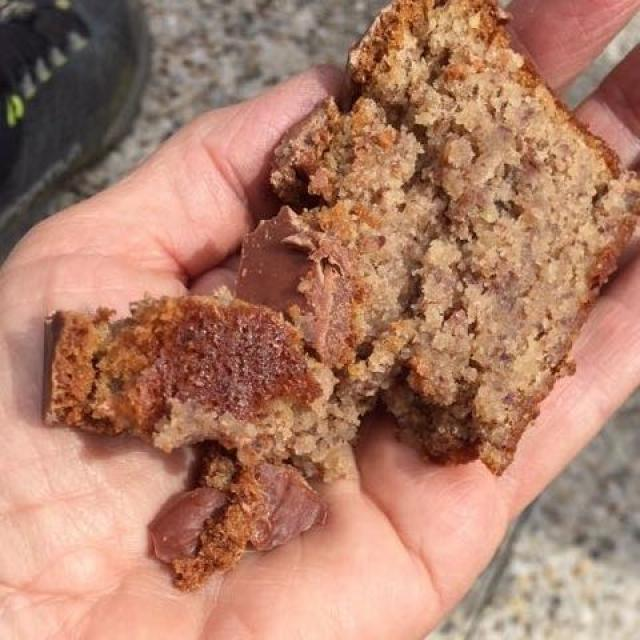cake: (54, 13, 623, 569)
